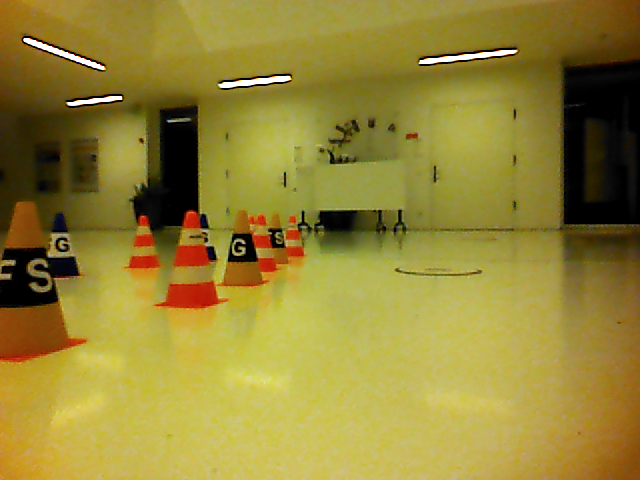bluecone: (50, 212, 80, 278)
orangeconesmall: (168, 210, 217, 305), (127, 213, 163, 269), (257, 215, 275, 272), (285, 214, 307, 258)
yellowcone: (1, 200, 67, 356), (224, 210, 263, 284), (274, 214, 290, 264)
